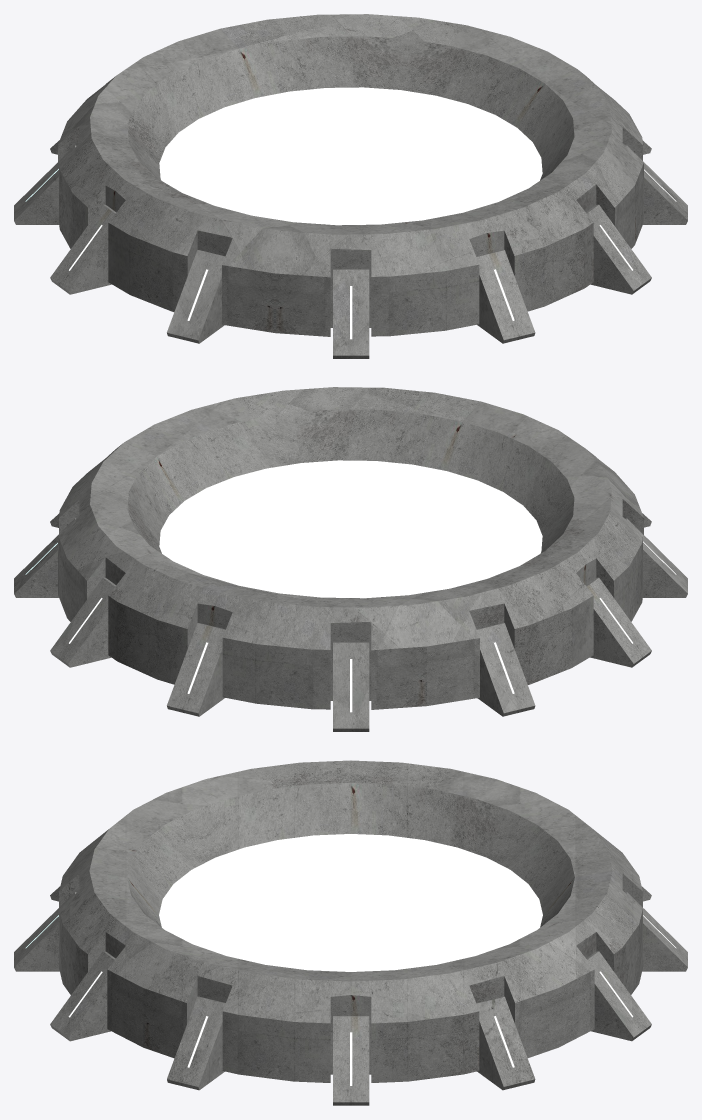
The model's file is spawn_pad.glb.
3 views of the same model, one above another, from view 1: azimuth 30°, elevation 25°; view 2: azimuth 150°, elevation 25°; view 3: azimuth 270°, elevation 25° (orthographic).
Visible parts, largest first — view 1: spawn_pad; view 2: spawn_pad; view 3: spawn_pad.
Part boxes in pixels (<box>): spawn_pad: <box>14,14,687,358</box>; spawn_pad: <box>14,387,687,731</box>; spawn_pad: <box>14,760,687,1105</box>.
Size of what is drawn, in the model's own units: 1.91 by 0.2912 by 1.91.
Materials: 2 (1 with a texture image).
